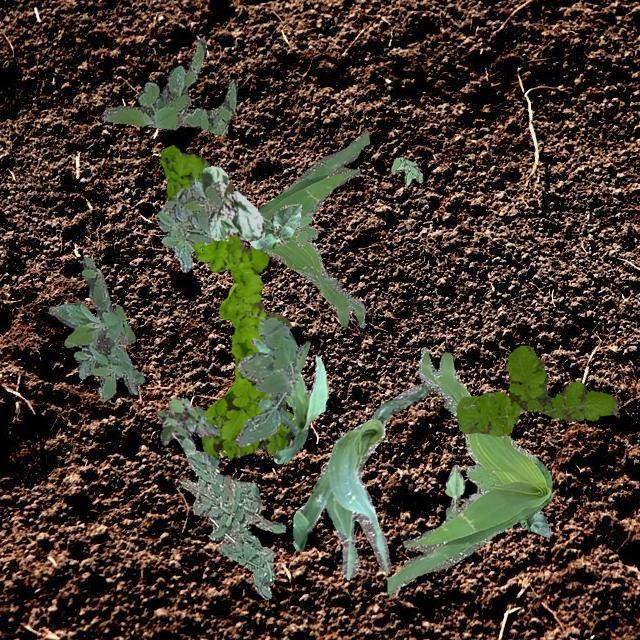crop: (292, 382, 434, 578), (250, 338, 328, 462), (200, 164, 264, 240), (248, 202, 300, 248), (444, 464, 464, 518), (518, 512, 548, 536)
weed: (158, 144, 292, 458), (386, 346, 550, 594), (256, 128, 368, 326), (180, 449, 284, 598), (454, 344, 618, 434), (48, 255, 144, 400), (101, 38, 236, 134), (234, 316, 310, 446), (156, 177, 222, 270), (156, 396, 218, 454), (389, 156, 422, 183), (294, 216, 310, 247)
